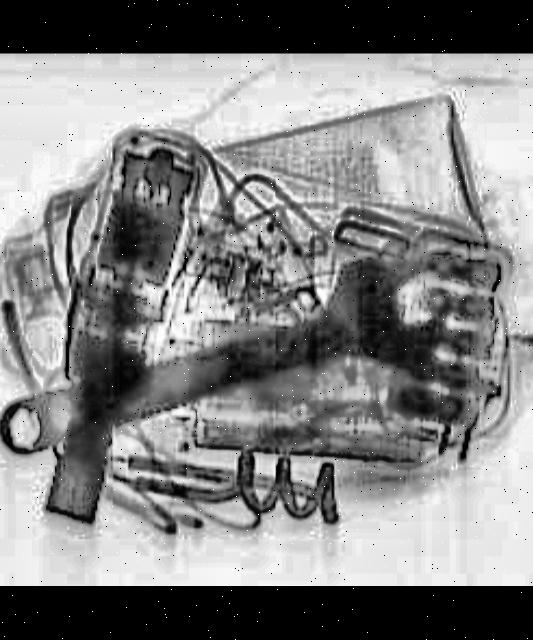Wrench: (0, 233, 473, 483)
